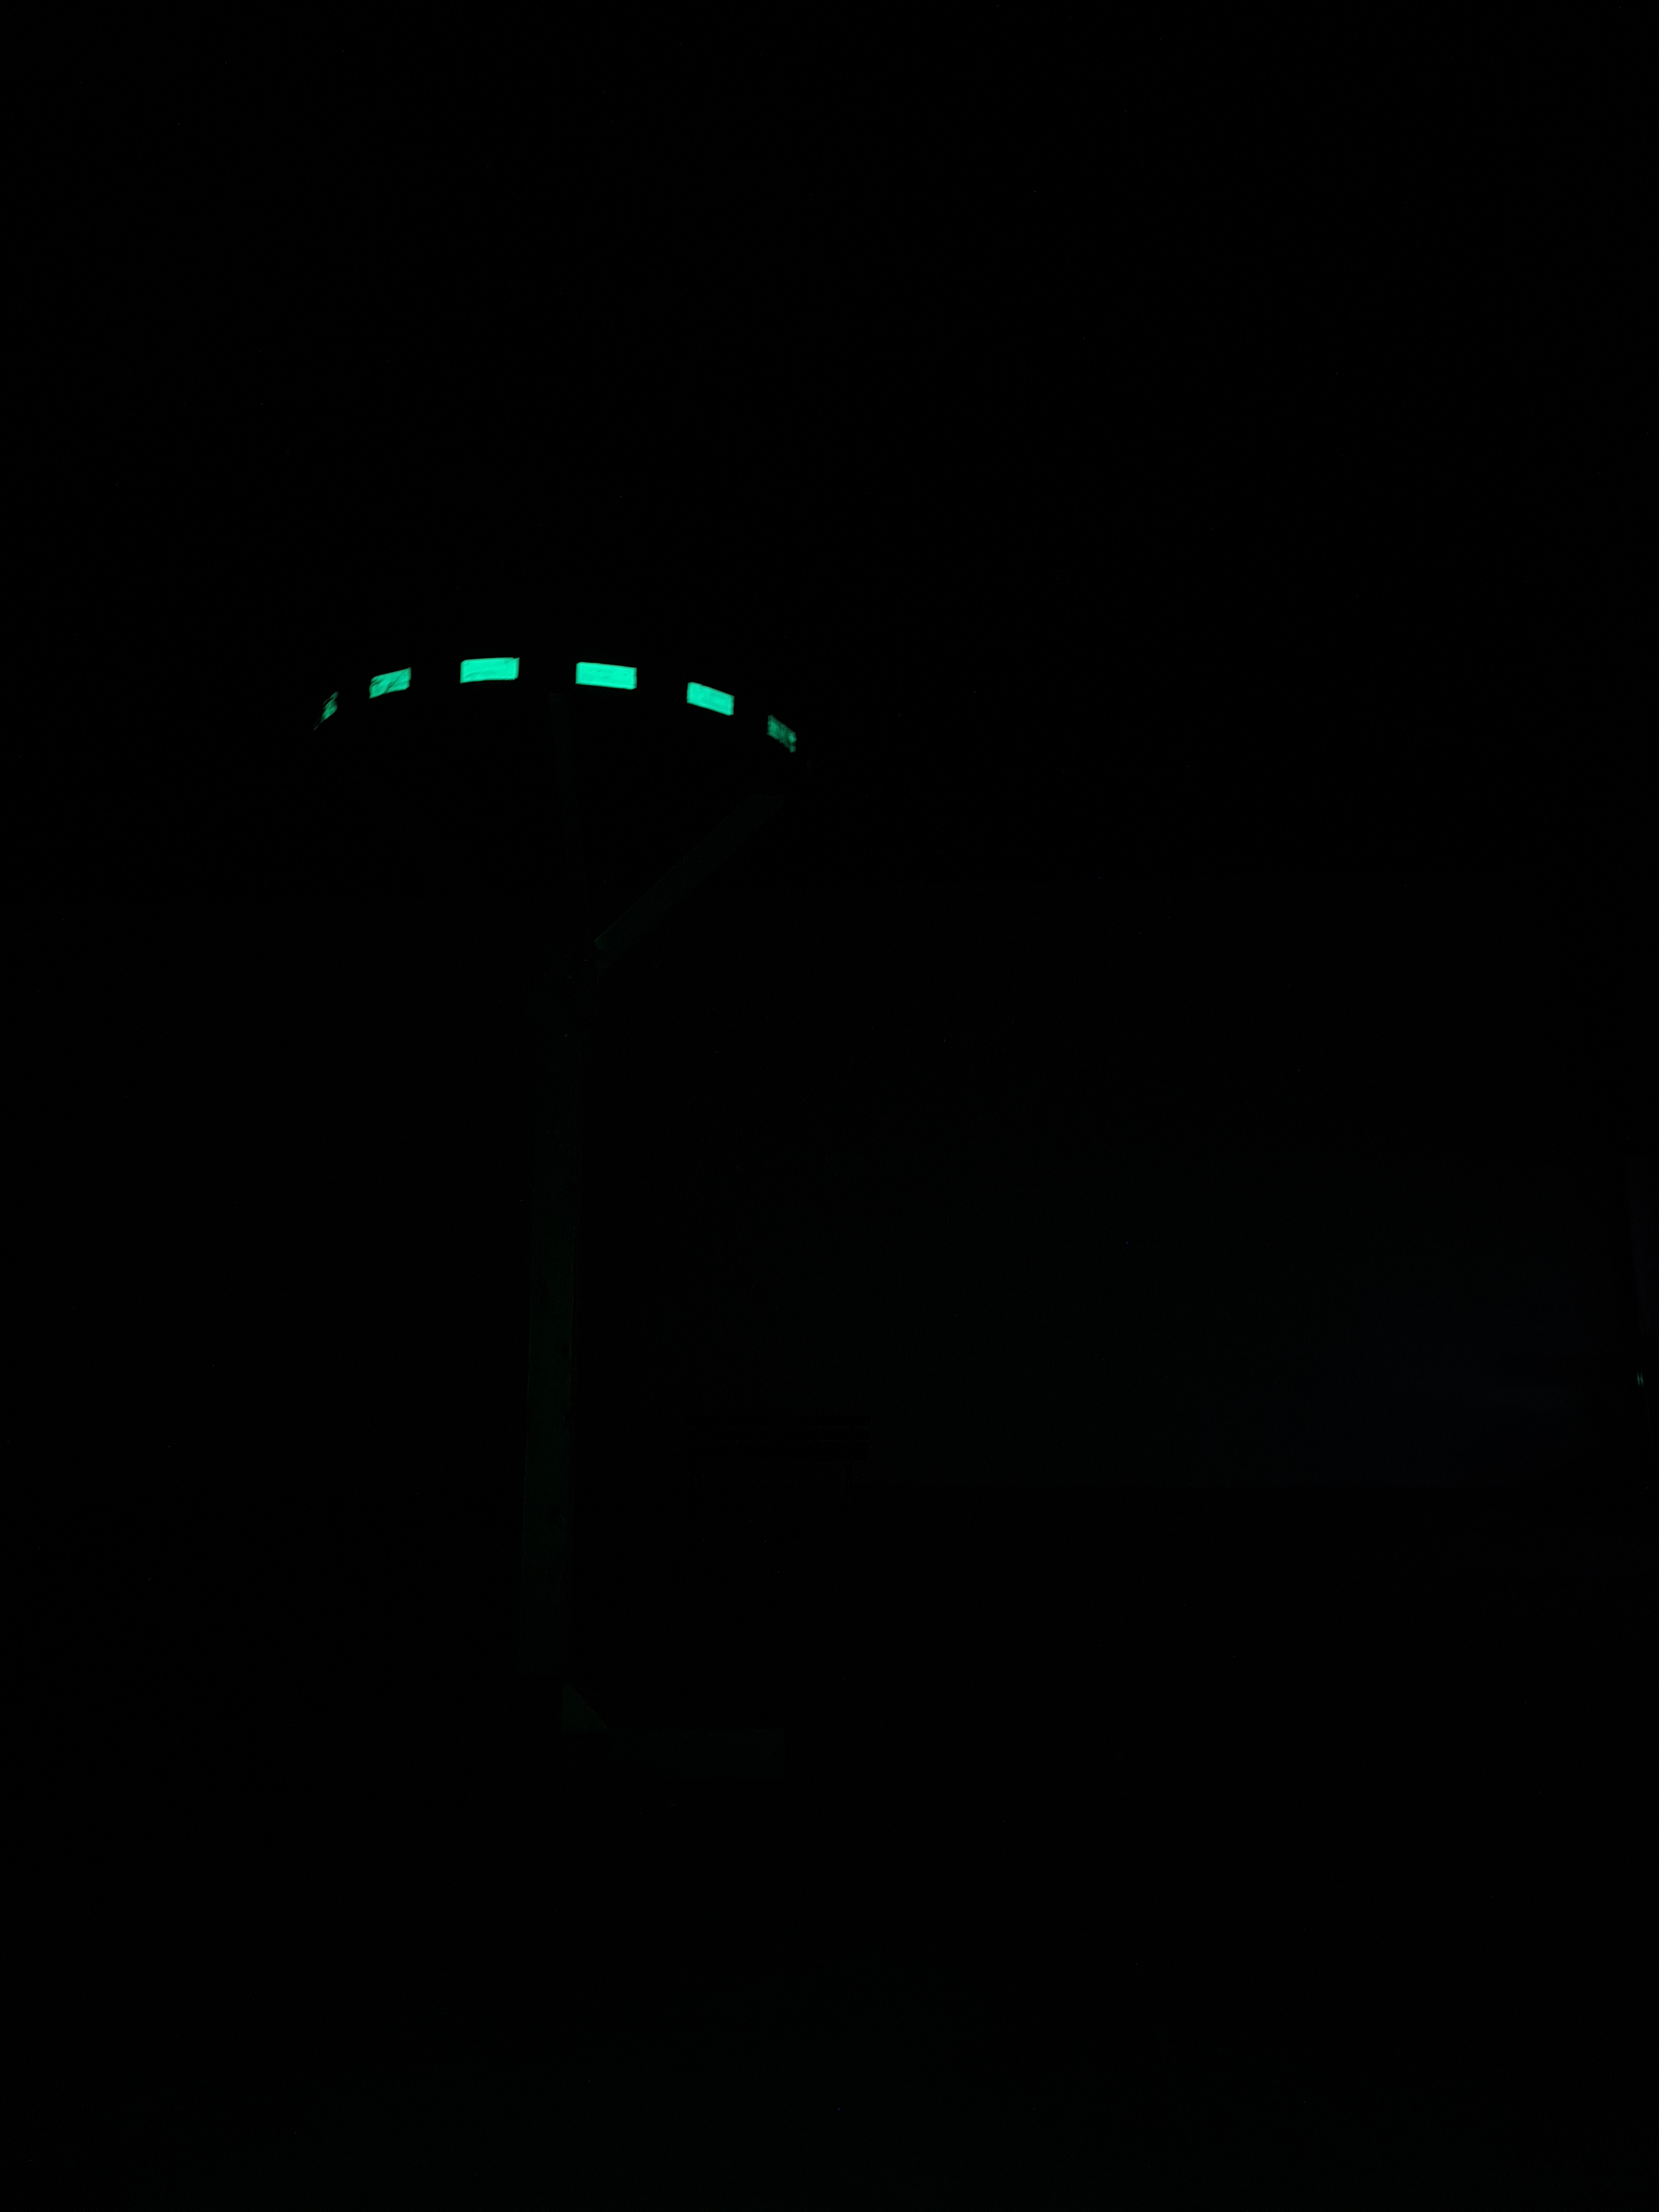hoop: (308, 650, 805, 763)
